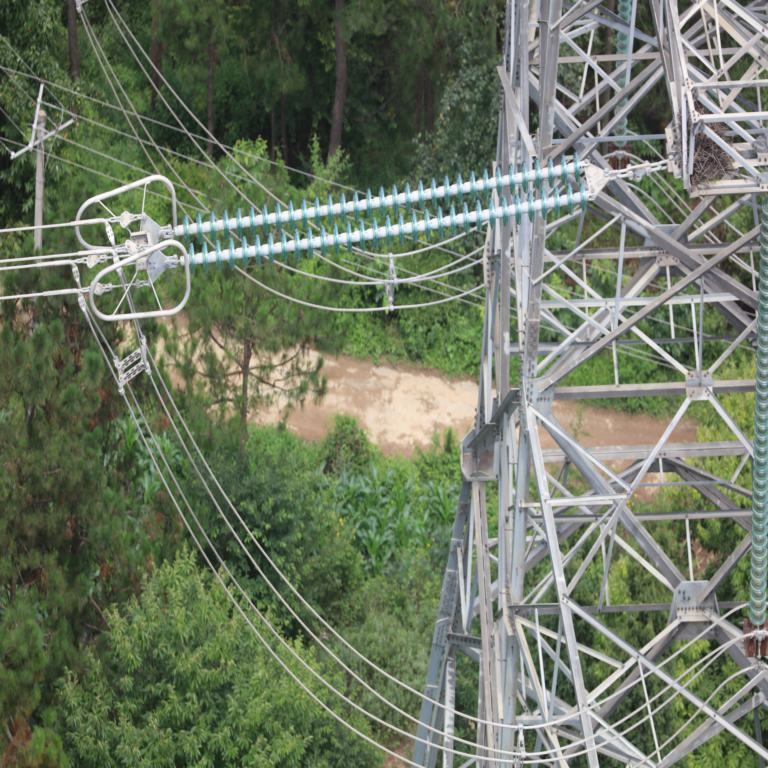nest: (688, 121, 730, 185)
